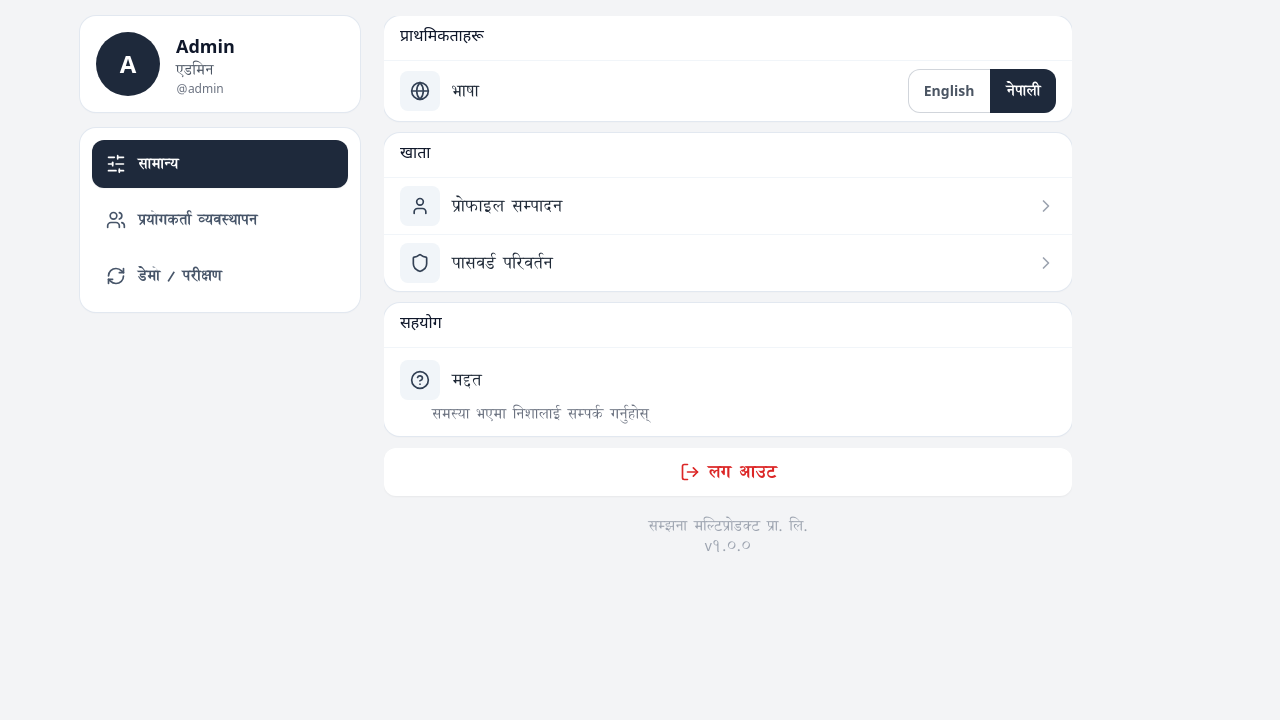
Test case: SettingsPage demo reset › shows the reset section in Nepali
The width and height of the screenshot is (1280, 720).
Step 1. Click the button "डेमो / परीक्षण" → [220, 276], box x1=92 y1=252 x2=348 y2=300
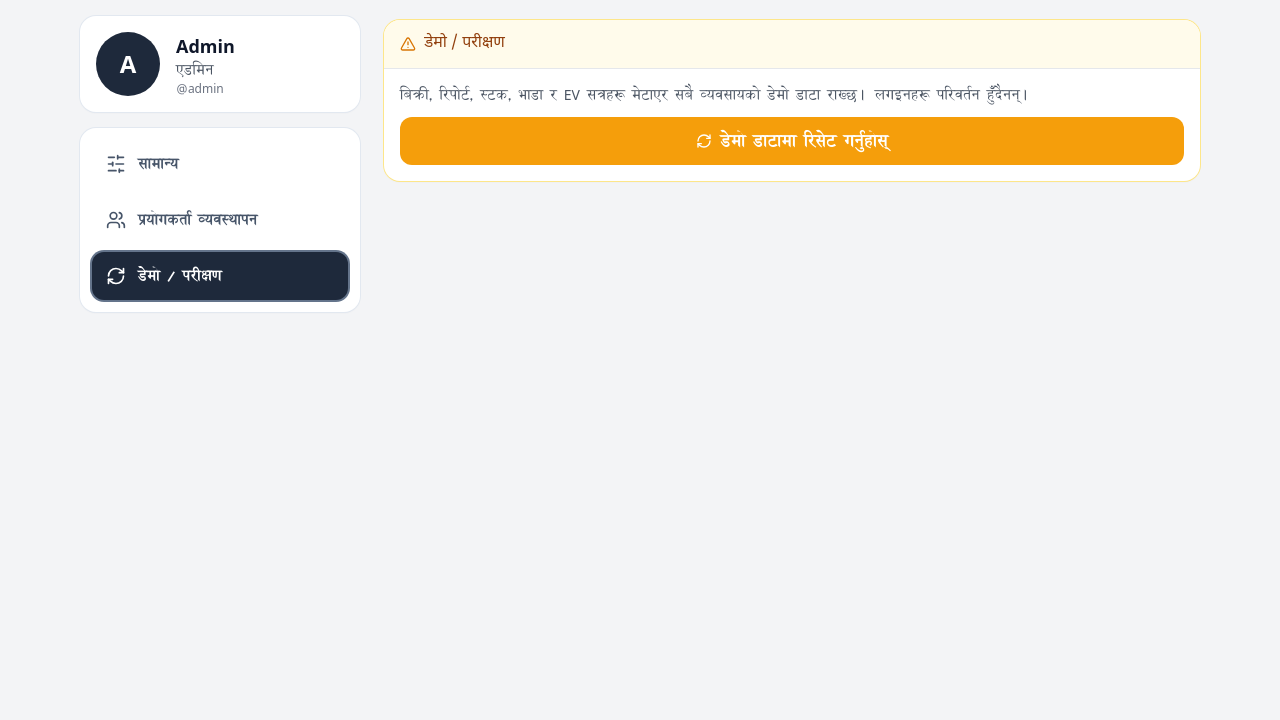
Result: the button "डेमो डाटामा रिसेट गर्नुहोस्" is shown at x1=400 y1=117 x2=1184 y2=165
Result: the heading "डेमो / परीक्षण" is shown at x1=424 y1=32 x2=505 y2=56
